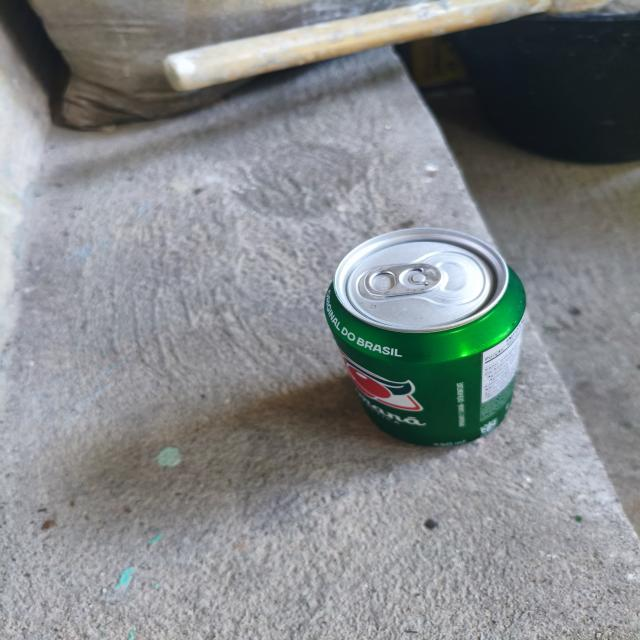Guarana: (320, 213, 555, 494)
